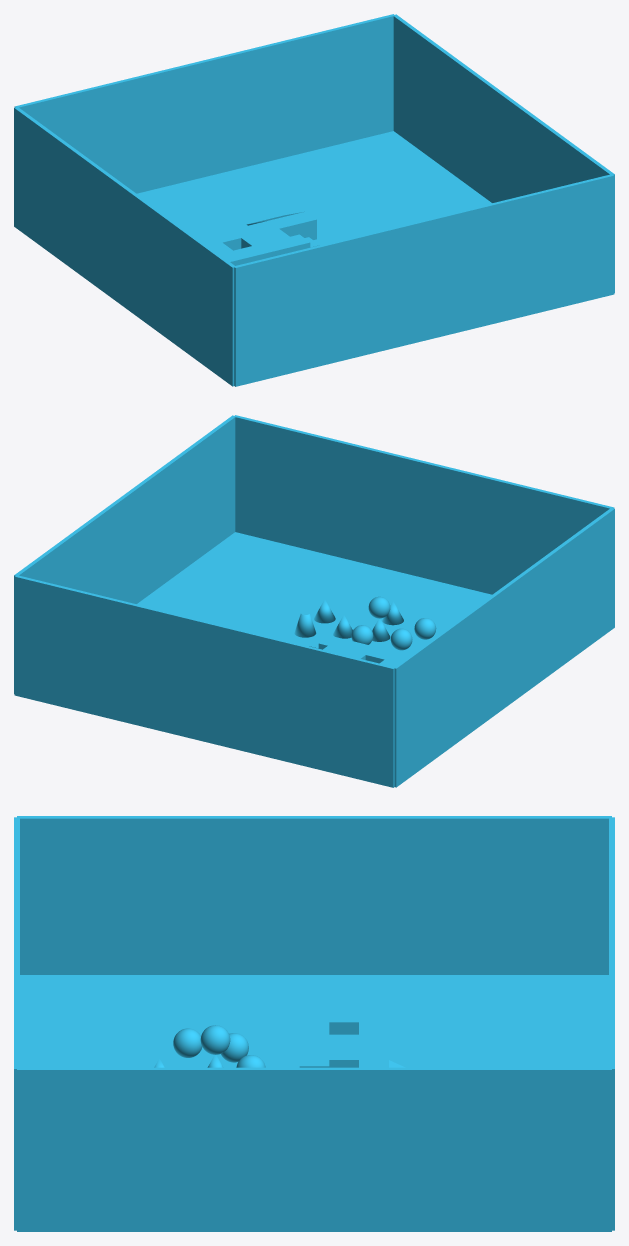
Rendered from map.glb.
3 renders of one model, top to bottom at view 1: azimuth 30°, elevation 25°; view 2: azimuth 150°, elevation 25°; view 3: azimuth 270°, elevation 25°, orthographic. The views are drawn at different scales.
Parts seen in each view (by area): view 1: 立方体.003, 立方体.002, 立方体.005, 立方体.001, 立方体.004, 立方体.009, 立方体.006, 立方体.010, 立方体.012; view 2: 立方体.002, 立方体.003, 立方体.005, 立方体.001, 立方体.004; view 3: 立方体.004, 立方体.005, 立方体.001, 立方体.003, 立方体.002, 立方体.007, 立方体.006, 立方体.010, 立方体.008, 立方体.011, 立方体.012, 球体.003 (+1 smaller).
Boxes of the visible parts, x1,y1,x2,y2 form: 立方体.003: (233, 174, 614, 386); 立方体.002: (14, 14, 393, 193); 立方体.005: (14, 107, 234, 386); 立方体.001: (137, 131, 491, 243); 立方体.004: (393, 14, 614, 293); 立方体.009: (268, 211, 316, 239); 立方体.006: (252, 237, 300, 258); 立方体.010: (219, 246, 263, 265); 立方体.012: (197, 230, 241, 250); 立方体.002: (14, 575, 394, 787); 立方体.003: (234, 415, 614, 594); 立方体.005: (393, 508, 614, 787); 立方体.001: (137, 532, 491, 654); 立方体.004: (14, 415, 235, 694); 立方体.004: (17, 1067, 611, 1231); 立方体.005: (17, 816, 611, 974); 立方体.001: (20, 975, 608, 1067); 立方体.003: (14, 817, 19, 1230); 立方体.002: (609, 817, 614, 1230); 立方体.007: (329, 1034, 358, 1067); 立方体.006: (299, 1034, 329, 1059); 立方体.010: (299, 1009, 329, 1034); 立方体.008: (359, 1034, 388, 1059); 立方体.011: (329, 1009, 358, 1034); 立方体.012: (359, 1009, 388, 1034); 球体.003: (200, 1025, 230, 1054).
Bounding box in the file's own units: 10.1 × 3 × 10.1.
